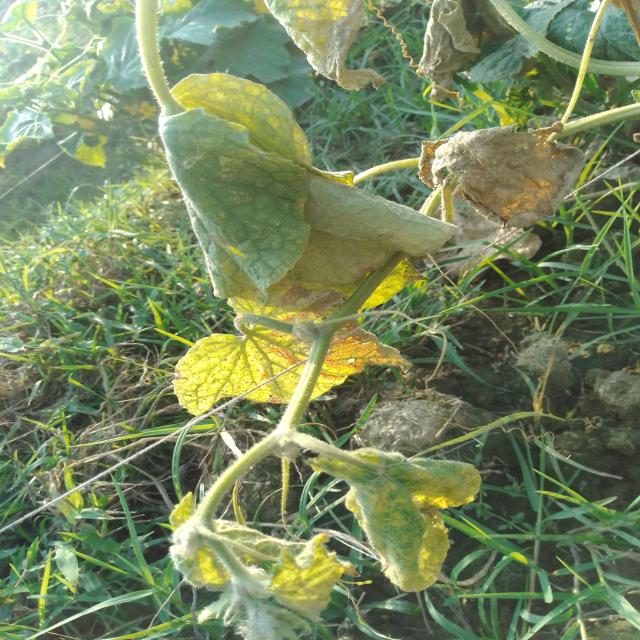cucumber_bacterial: (138, 71, 451, 303), (304, 412, 491, 605), (431, 99, 590, 286), (164, 483, 353, 640), (172, 314, 403, 436), (395, 5, 505, 89)
